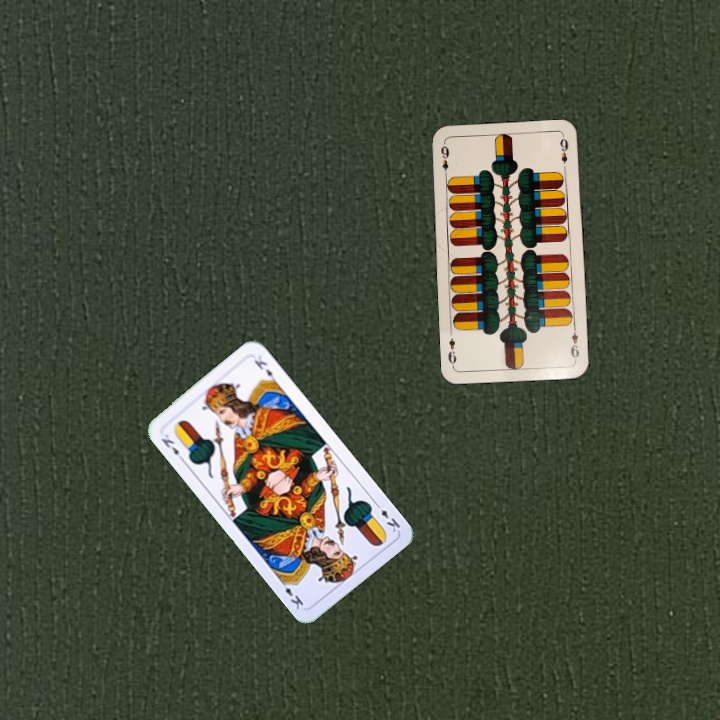E9: (567, 322, 581, 363), (437, 139, 451, 180)
EK: (371, 498, 403, 535), (157, 430, 187, 464)
